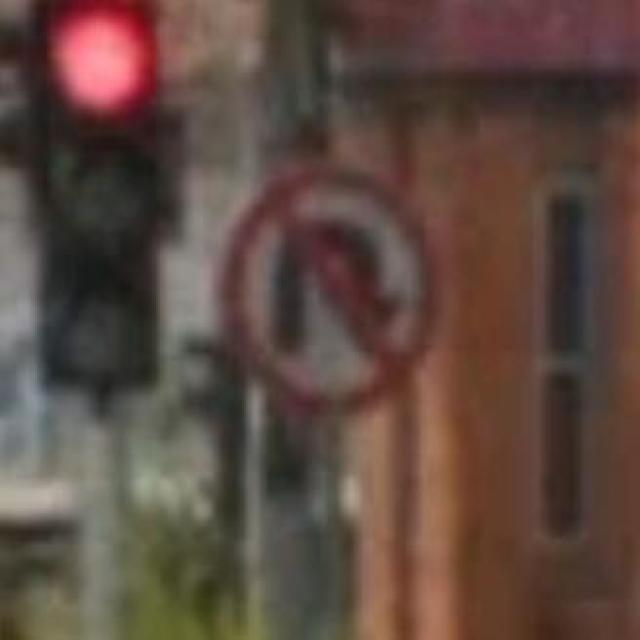traffic sign: (236, 168, 435, 418)
